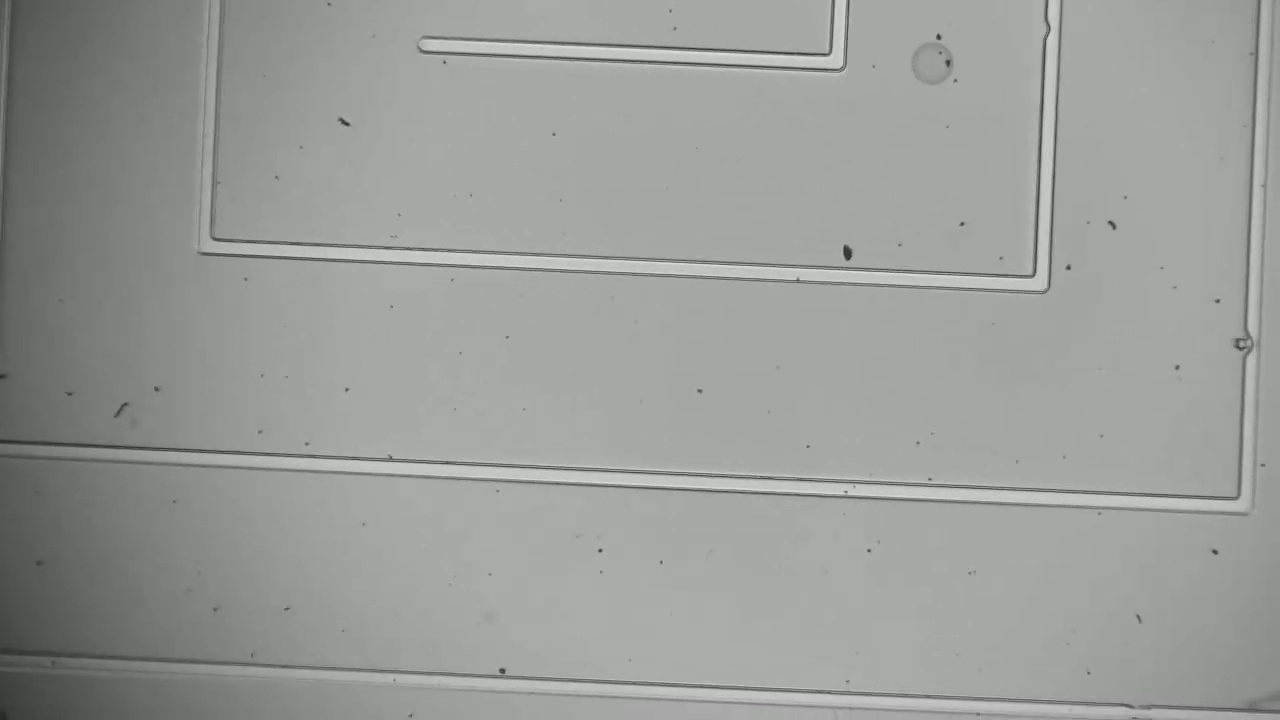edge_bite: (1226, 323, 1271, 366), (1033, 14, 1073, 50)
